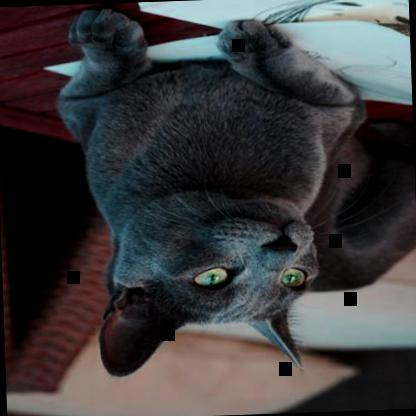cat: (51, 0, 415, 382)
